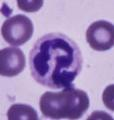N: (28, 32, 84, 88)
